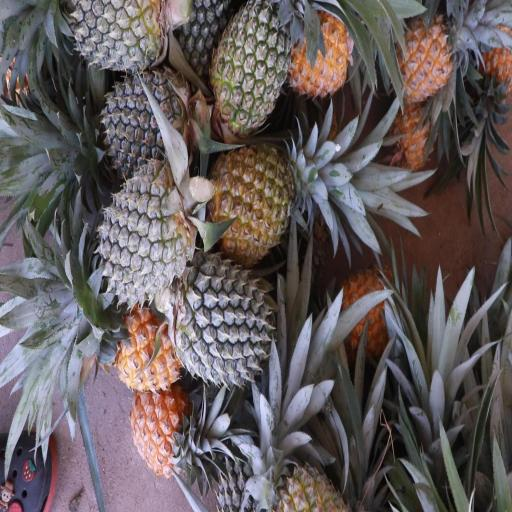------------------------------: (211, 143, 303, 257), (214, 0, 294, 126)
Pineapple - v8 v1: (112, 301, 184, 390), (127, 390, 191, 476), (339, 278, 395, 376), (291, 9, 354, 92), (397, 18, 458, 102)
